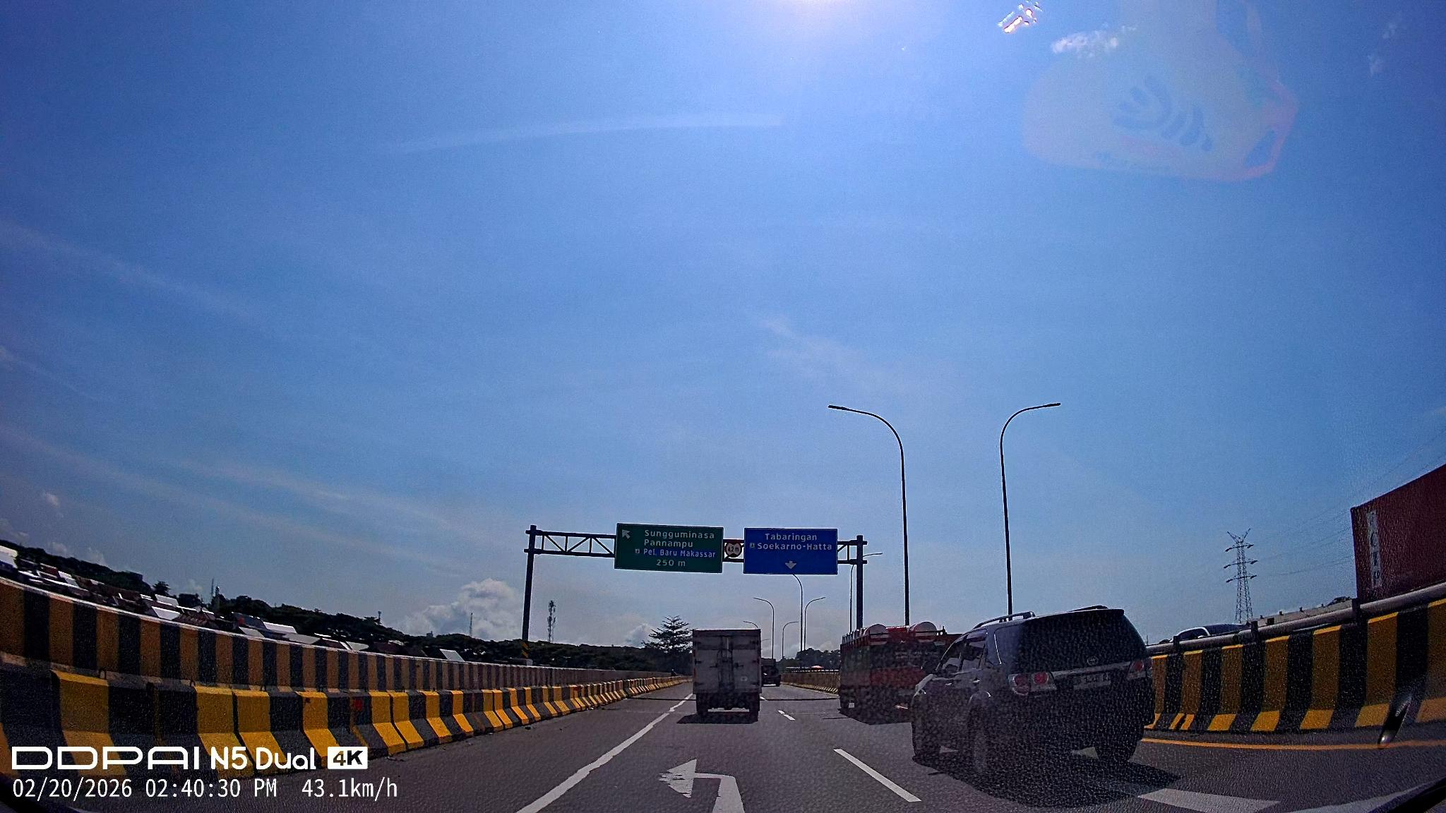rambu_teks: (614, 524, 722, 575), (743, 526, 838, 576)
